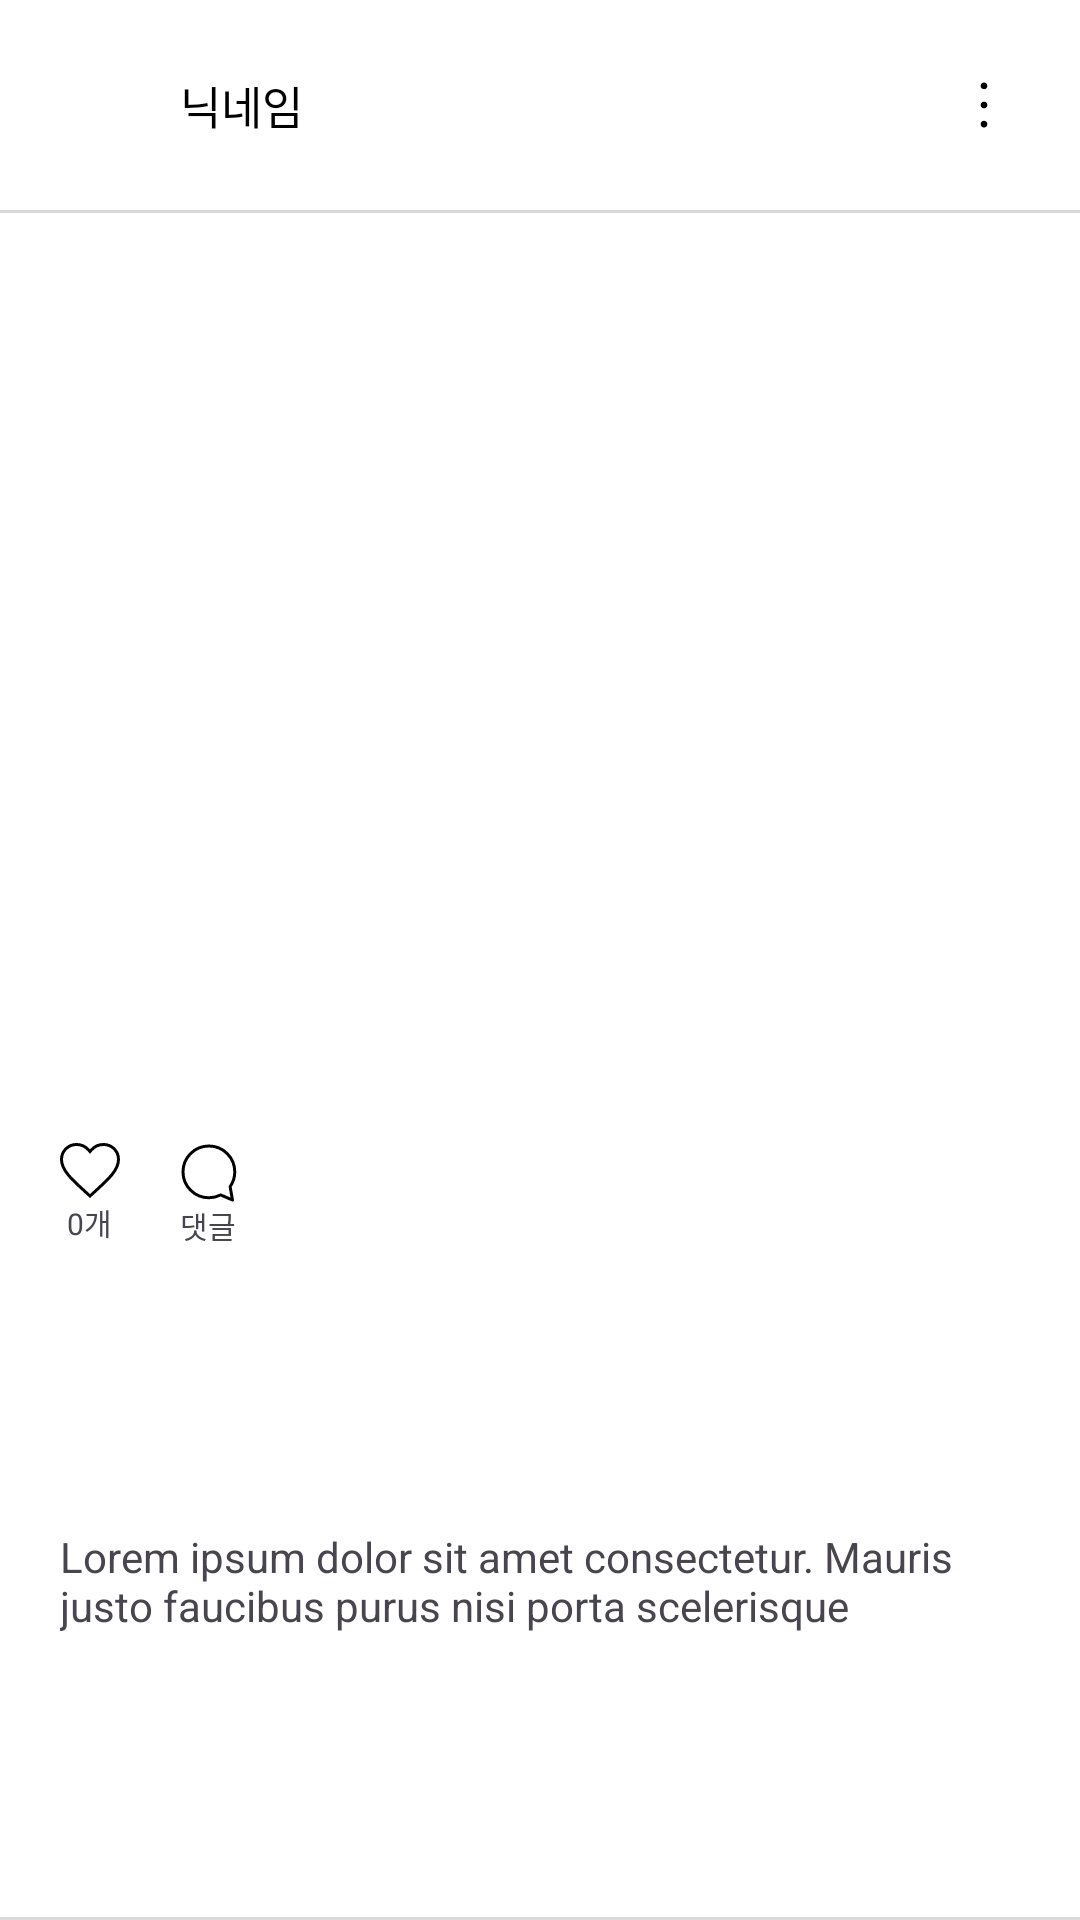

Icons on this 1080px×1920px Android screen, each with its box as (x1, y1, x2, y2):
bubble: (181, 1144, 237, 1202)
dots: (980, 82, 988, 128)
like: (60, 1143, 120, 1198)
